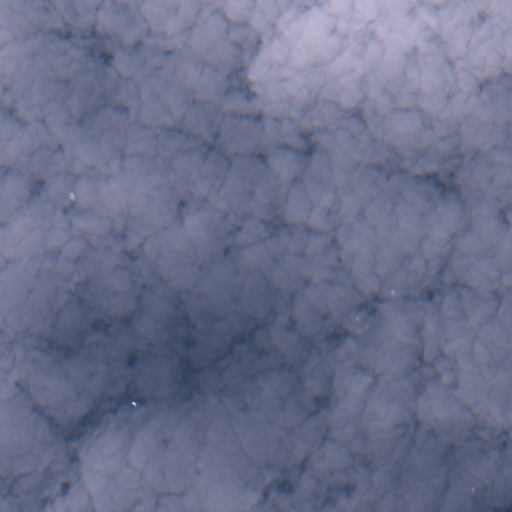Iceberg: (69, 193, 74, 199), (132, 401, 136, 406), (391, 289, 394, 295), (471, 488, 474, 491), (356, 317, 358, 319)
